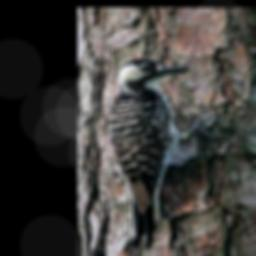Woodpecker: (101, 56, 223, 248)
